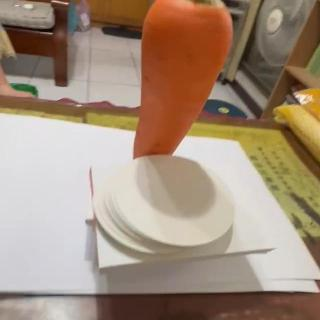carrot: (132, 0, 235, 162)
